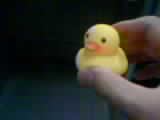duck: (58, 11, 129, 82)
